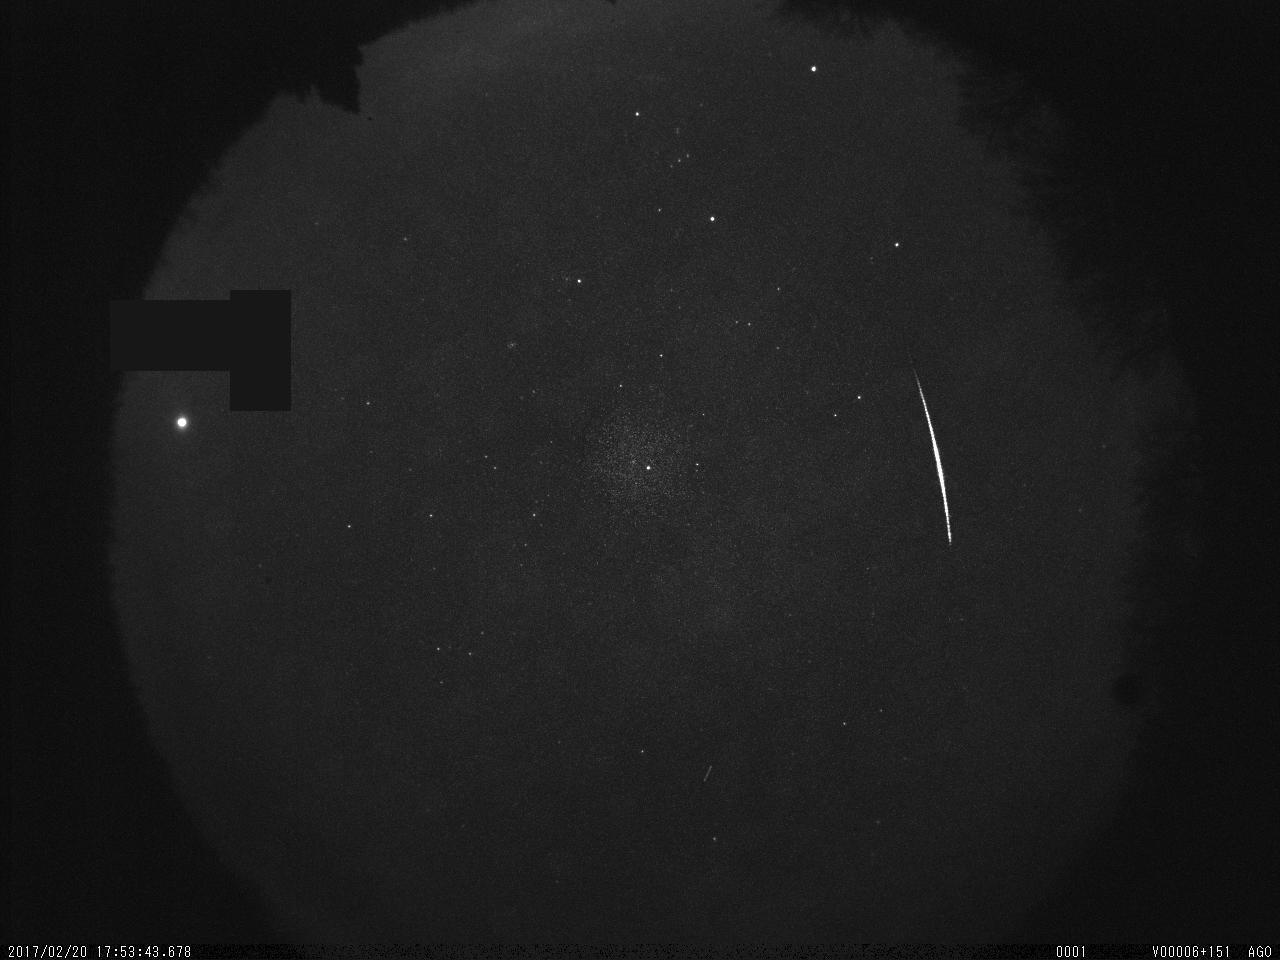meteor: (892, 366, 973, 550)
